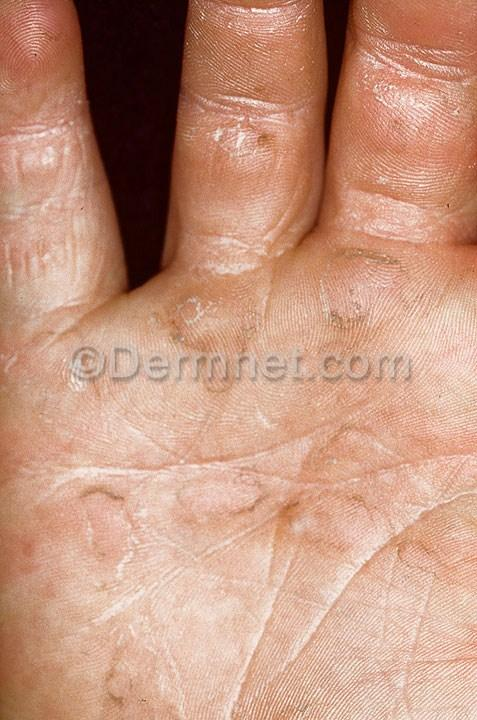Eczema: (315, 234, 430, 372), (30, 462, 157, 582), (163, 291, 284, 406), (374, 6, 475, 131), (180, 98, 283, 216), (8, 320, 126, 418), (343, 133, 446, 241), (302, 420, 374, 566), (176, 441, 283, 533), (220, 651, 352, 720), (3, 126, 87, 218), (0, 233, 97, 310), (87, 618, 160, 718), (397, 491, 477, 576), (230, 58, 304, 121)
